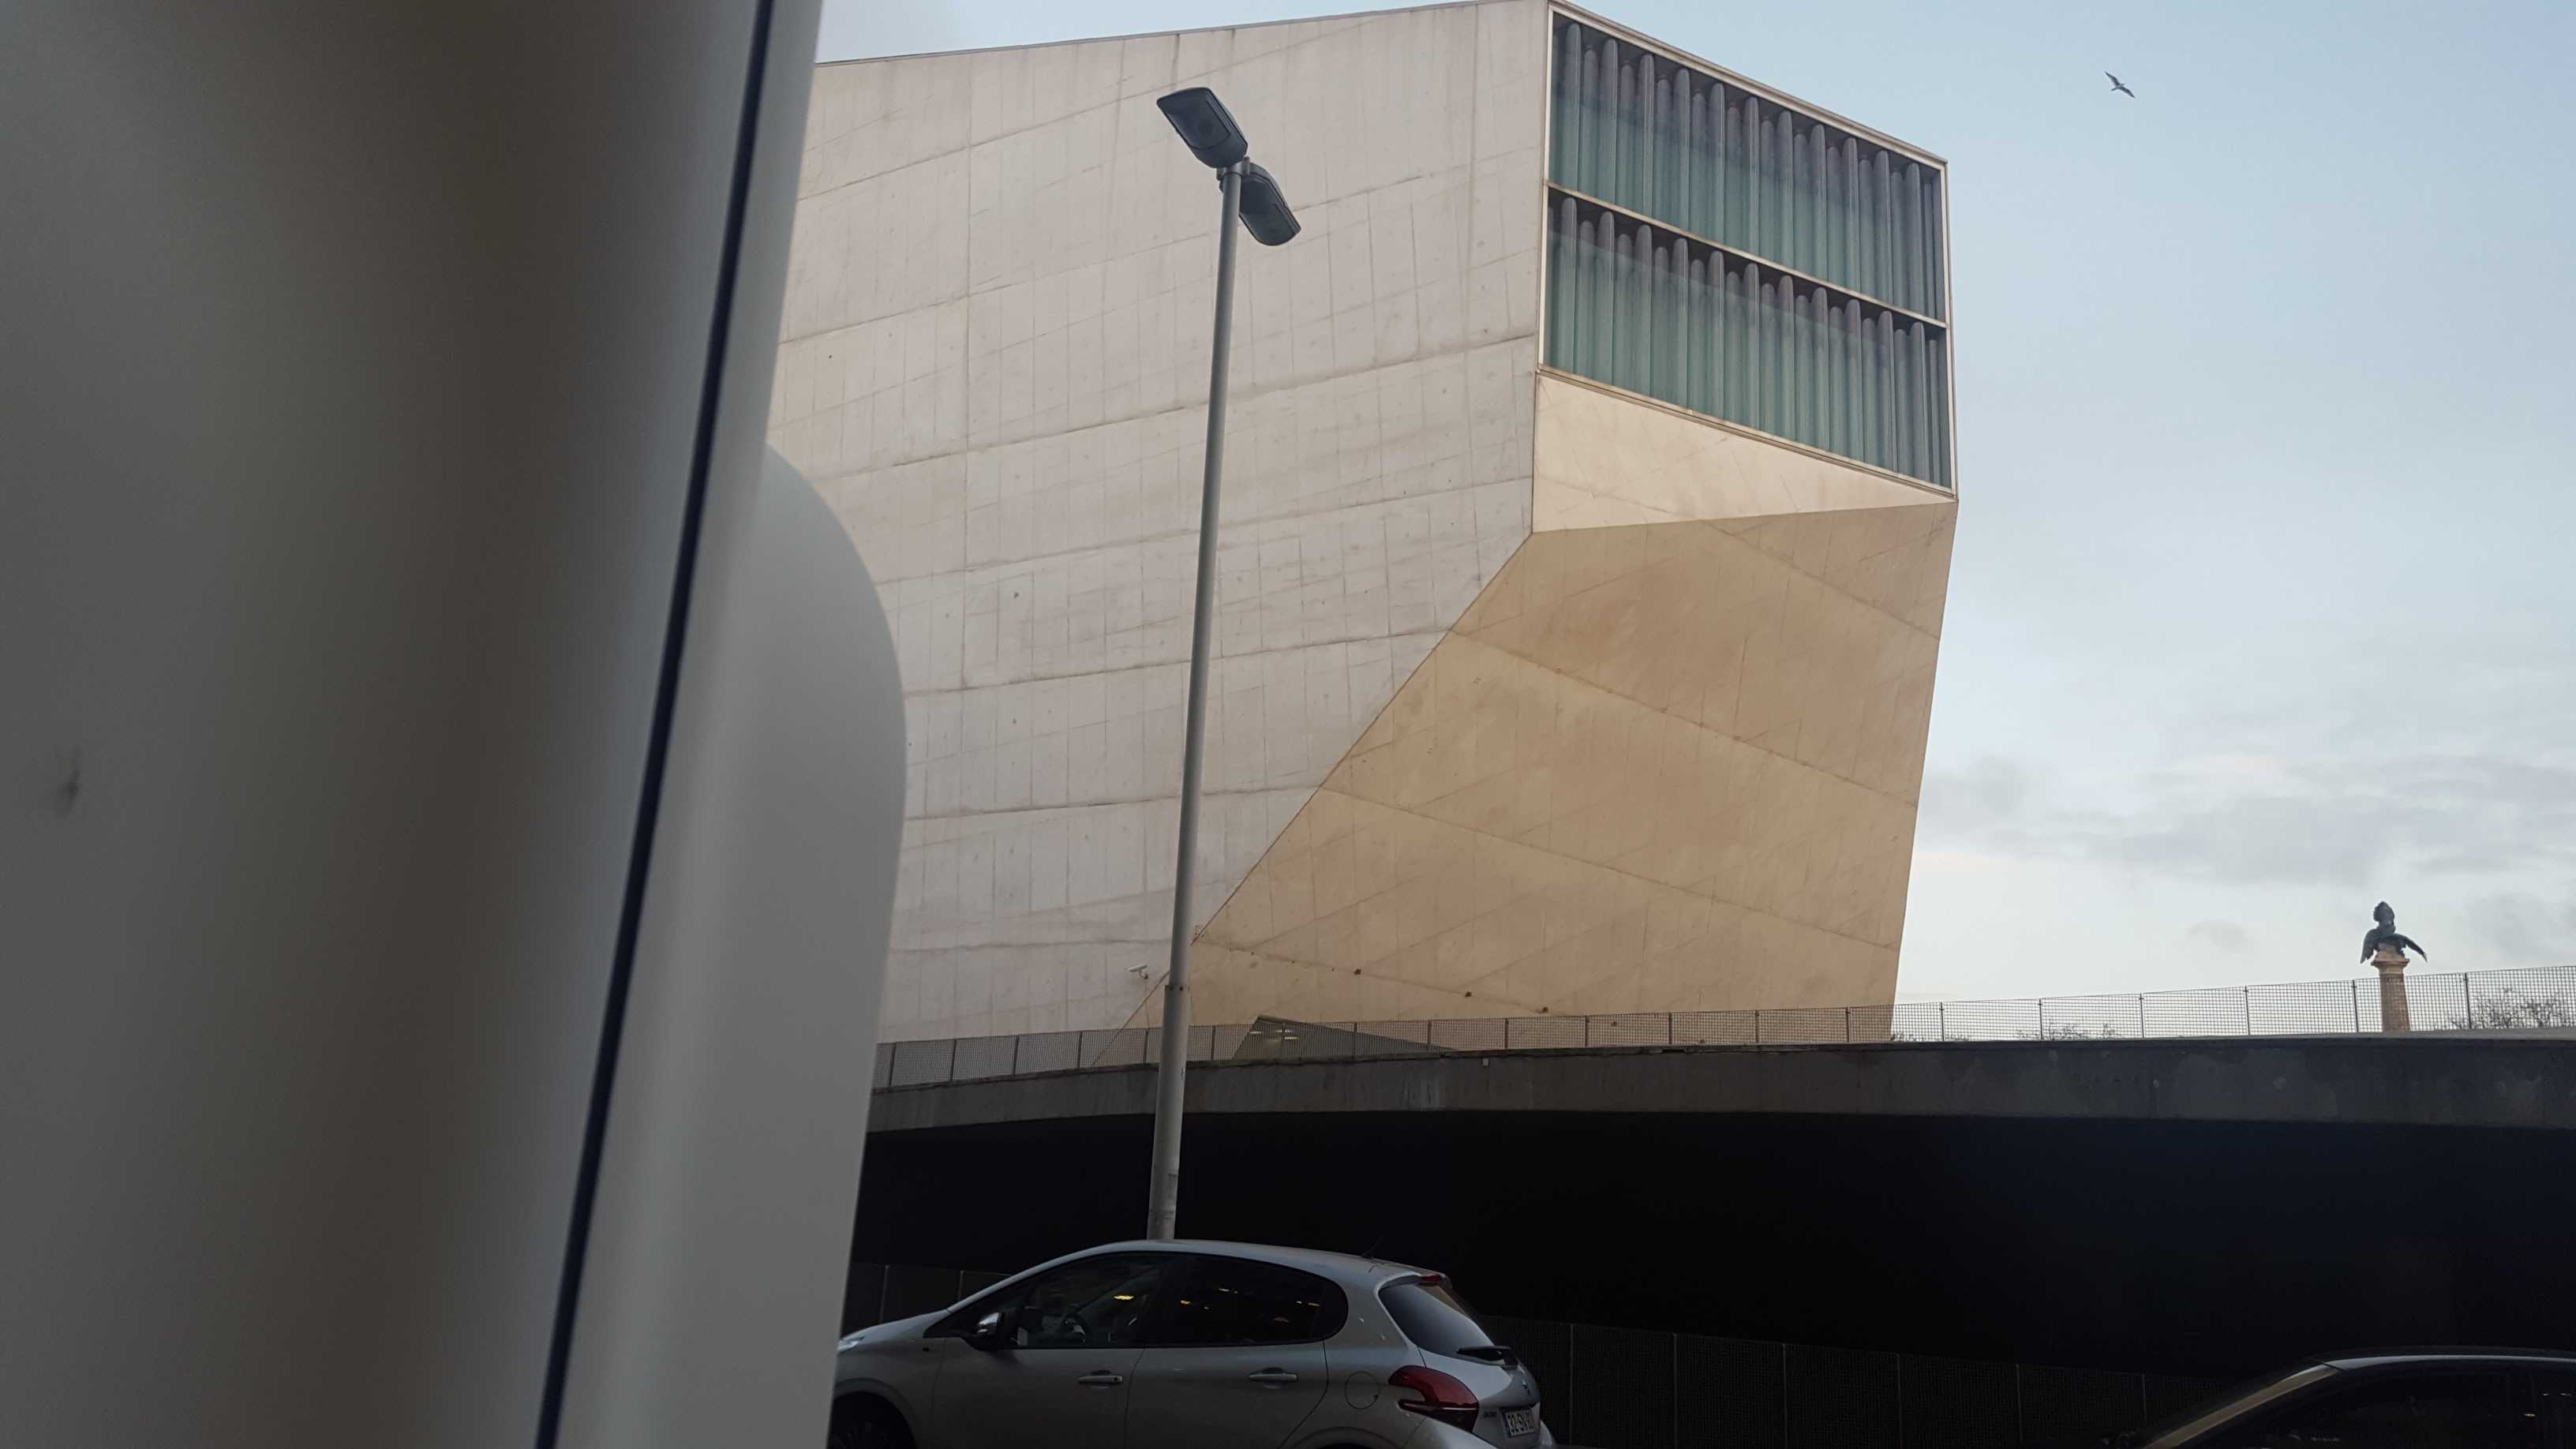musica: (761, 0, 1187, 1042)
